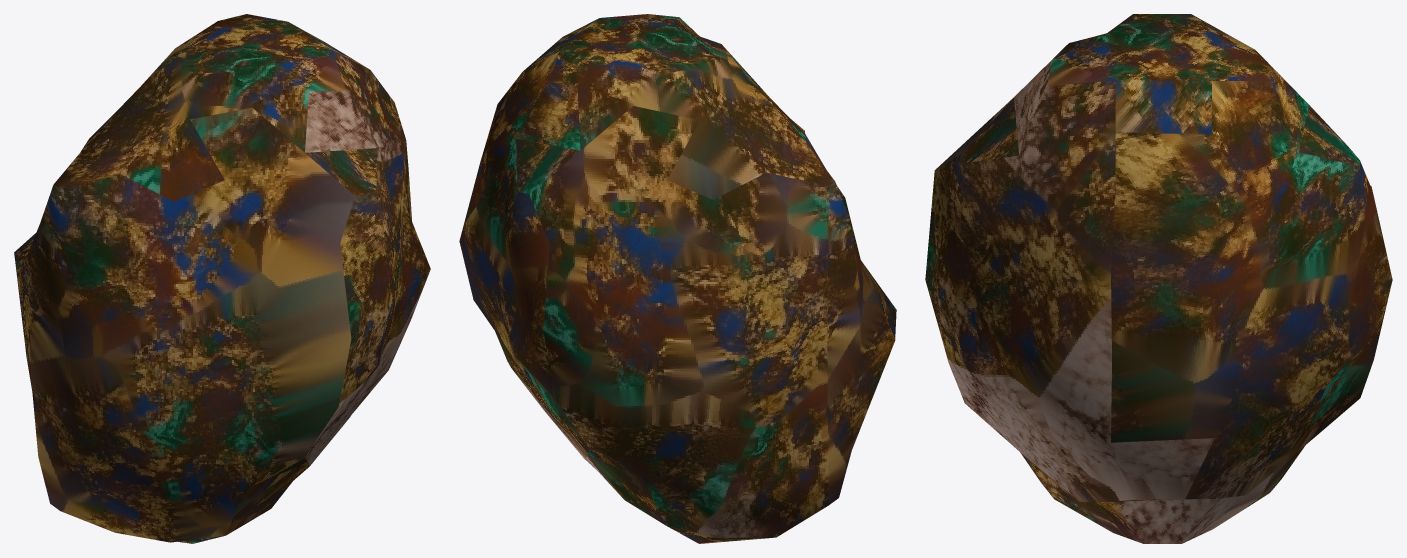
Rendered from ore_fragment.glb.
3 views of the same model, side by side, from view 1: azimuth 30°, elevation 25°; view 2: azimuth 150°, elevation 25°; view 3: azimuth 270°, elevation 25° (orthographic). The views are drawn at different scales.
Visible parts, largest first — view 1: rock; view 2: rock; view 3: rock.
Part boxes in pixels (bbox=[...]): rock: bbox=[14, 14, 430, 543]; rock: bbox=[459, 14, 896, 543]; rock: bbox=[925, 14, 1392, 543].
Bounding box in the file's own units: 0.4853 × 0.5966 × 0.4849.
1 material, 1 textured.
